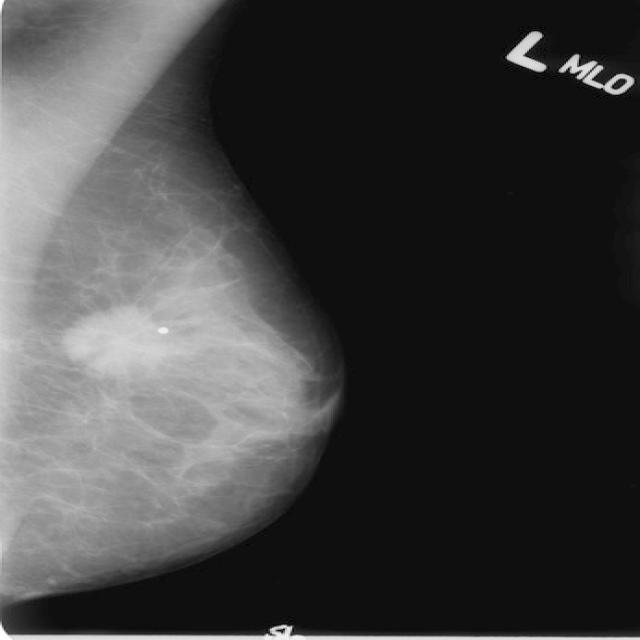tumour: (57, 304, 174, 375)
